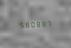eight: (23, 20, 28, 28), (36, 19, 41, 27), (42, 19, 47, 27)
five: (17, 20, 22, 28)
seven: (48, 19, 53, 27)
zero: (30, 20, 35, 28)
